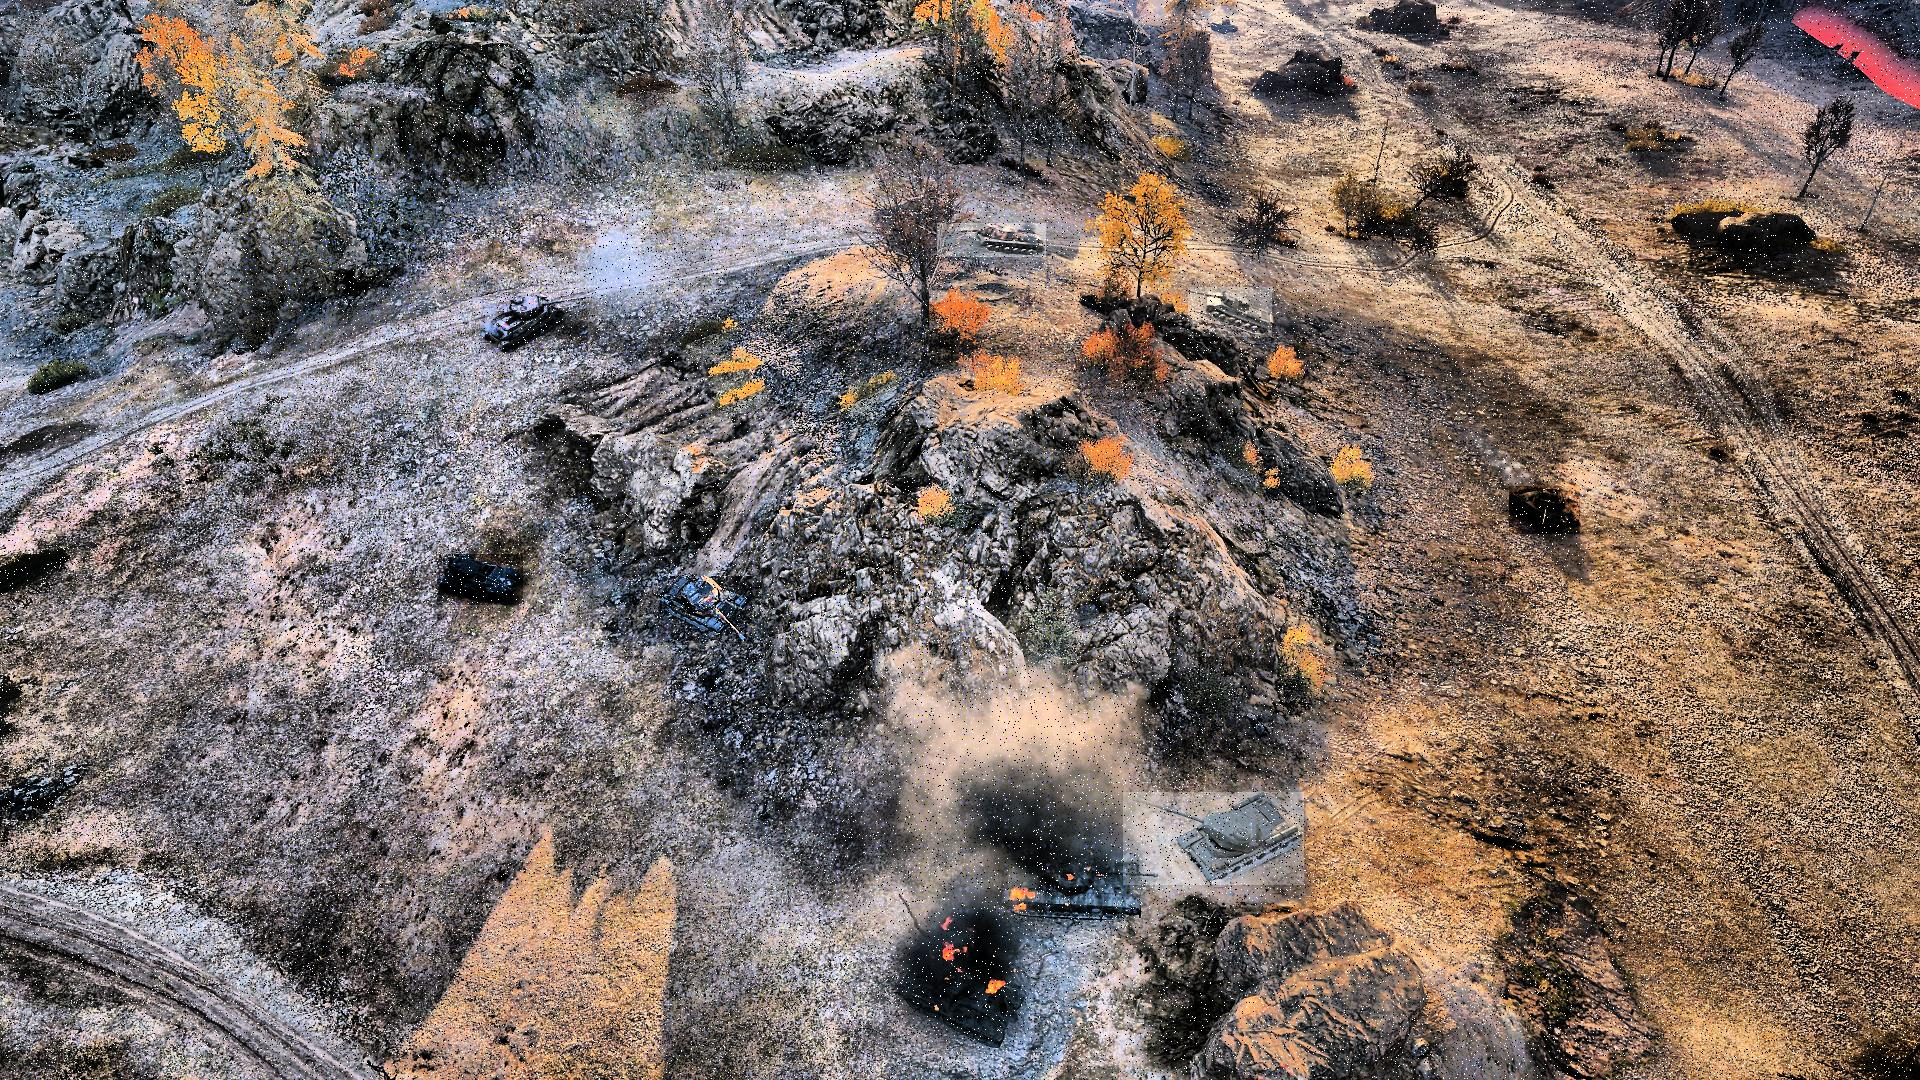military-vehicle: (1124, 793, 1304, 886), (658, 576, 753, 644), (481, 293, 588, 352), (438, 555, 524, 605), (1189, 287, 1273, 338), (938, 223, 1047, 257), (1510, 487, 1581, 535)
